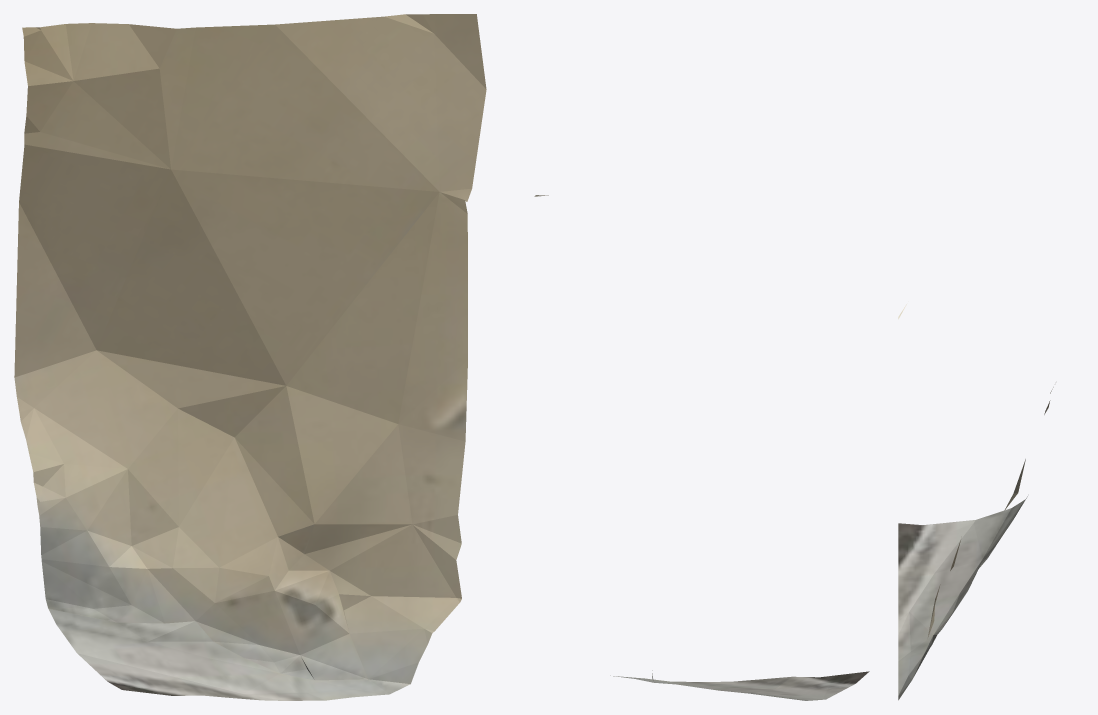
The picture shows the model from 3 angles, left to right: view 1: azimuth 30°, elevation 25°; view 2: azimuth 150°, elevation 25°; view 3: azimuth 270°, elevation 25°; orthographic projection. The views are drawn at different scales.
Bounding box in the file's own units: 1.75 × 3.02 × 0.8907.
2 materials, 2 textured.
